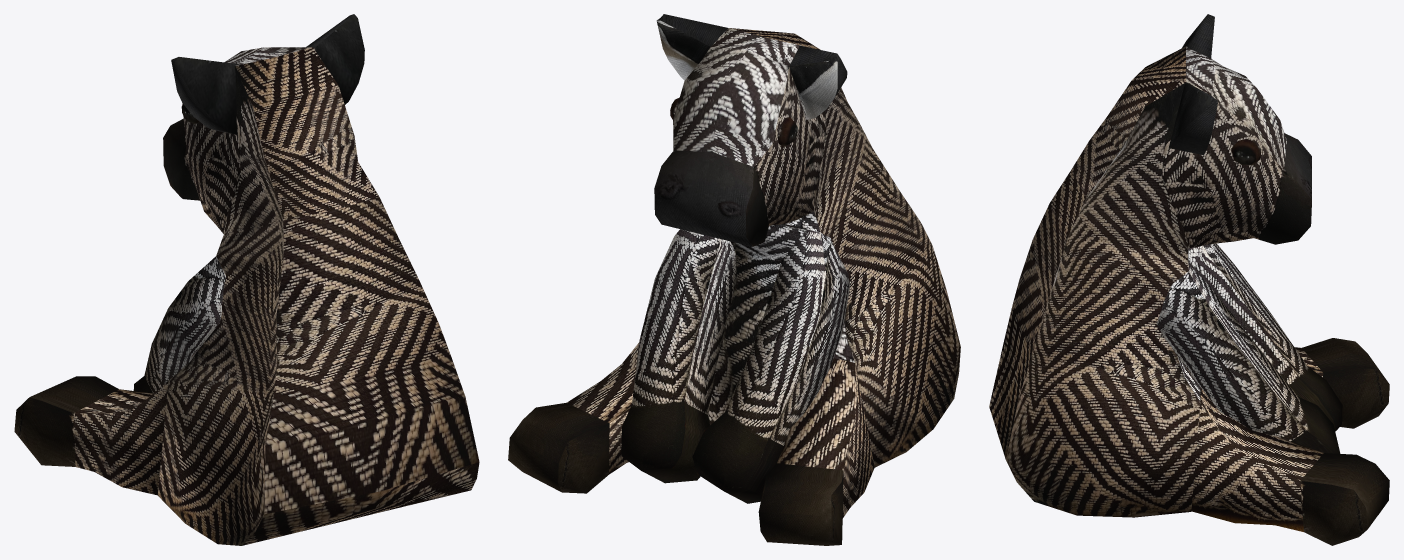
File: stripey_the_low_poly_zebra_holon.glb
3 renders of one model, left to right at view 1: azimuth 30°, elevation 25°; view 2: azimuth 150°, elevation 25°; view 3: azimuth 270°, elevation 25°, orthographic. The views are drawn at different scales.
Parts seen in each view (by area): view 1: unnamed (×2); view 2: unnamed (×2); view 3: unnamed (×2).
Boxes of the visible parts, <box> form: unnamed (×2): <box>14,14,479,545</box>; unnamed (×2): <box>508,14,960,545</box>; unnamed (×2): <box>989,14,1389,545</box>.
Size of the model in its own units: 0.5987 by 0.755 by 0.6555.
2 materials, 2 textured.
